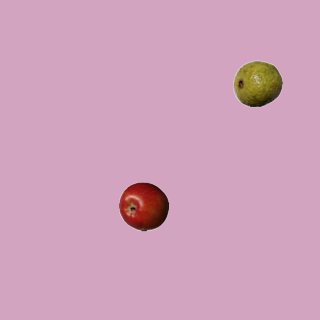Apple Braeburn: (118, 181, 168, 231)
Guava: (232, 58, 282, 108)
